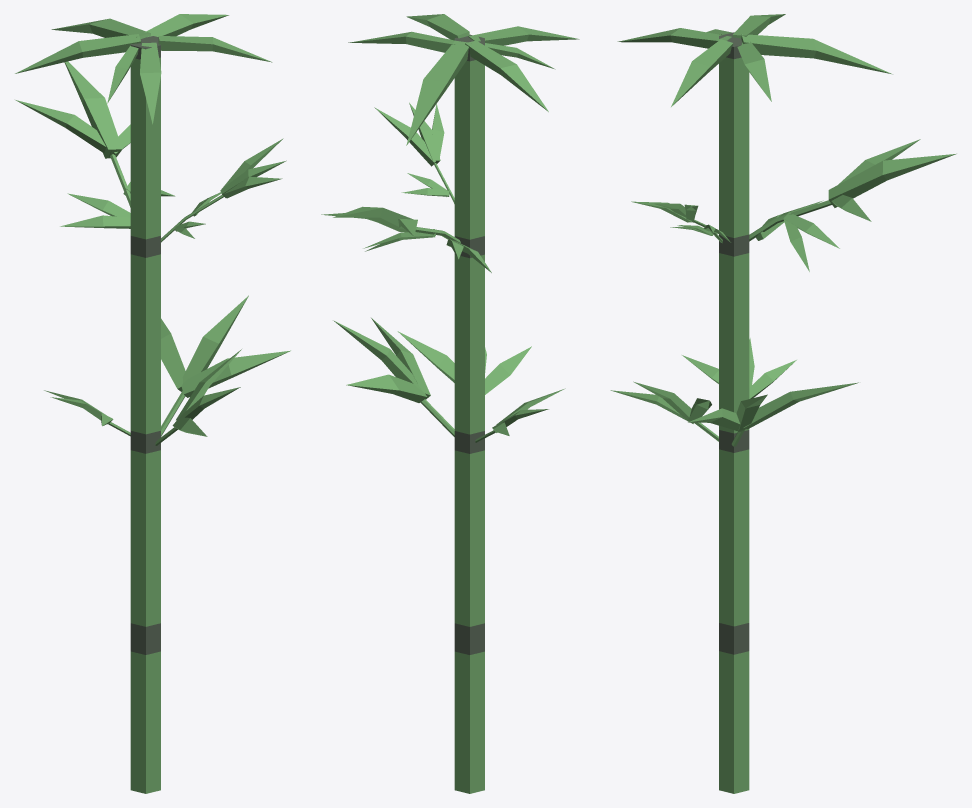
The model's file is bamboo1.FBX.
The picture shows the model from 3 angles, left to right: view 1: azimuth 30°, elevation 25°; view 2: azimuth 150°, elevation 25°; view 3: azimuth 270°, elevation 25°; orthographic projection.
Parts seen in each view (by area): view 1: bamboo1; view 2: bamboo1; view 3: bamboo1.
Part boxes in pixels (x1=…): bamboo1: x1=15, y1=14, x2=290, y2=793; bamboo1: x1=321, y1=14, x2=579, y2=793; bamboo1: x1=610, y1=14, x2=956, y2=793.
Size of the model in its own units: 49.49 by 155 by 65.09.
